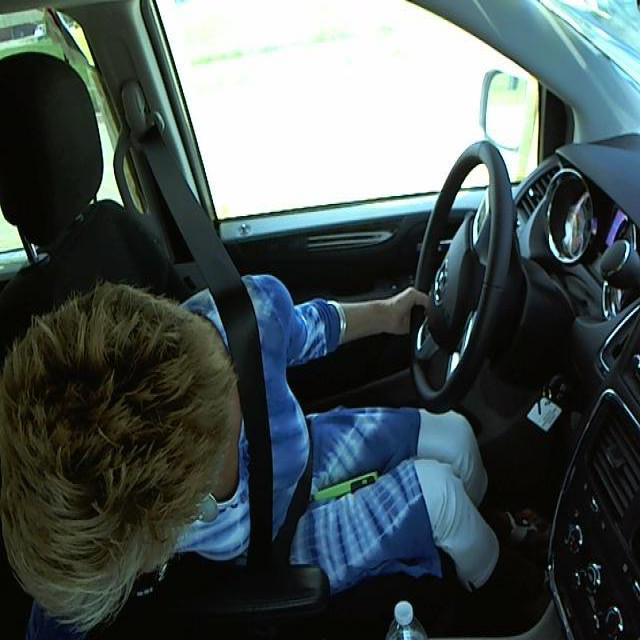seatbelt: (215, 287, 321, 548)
